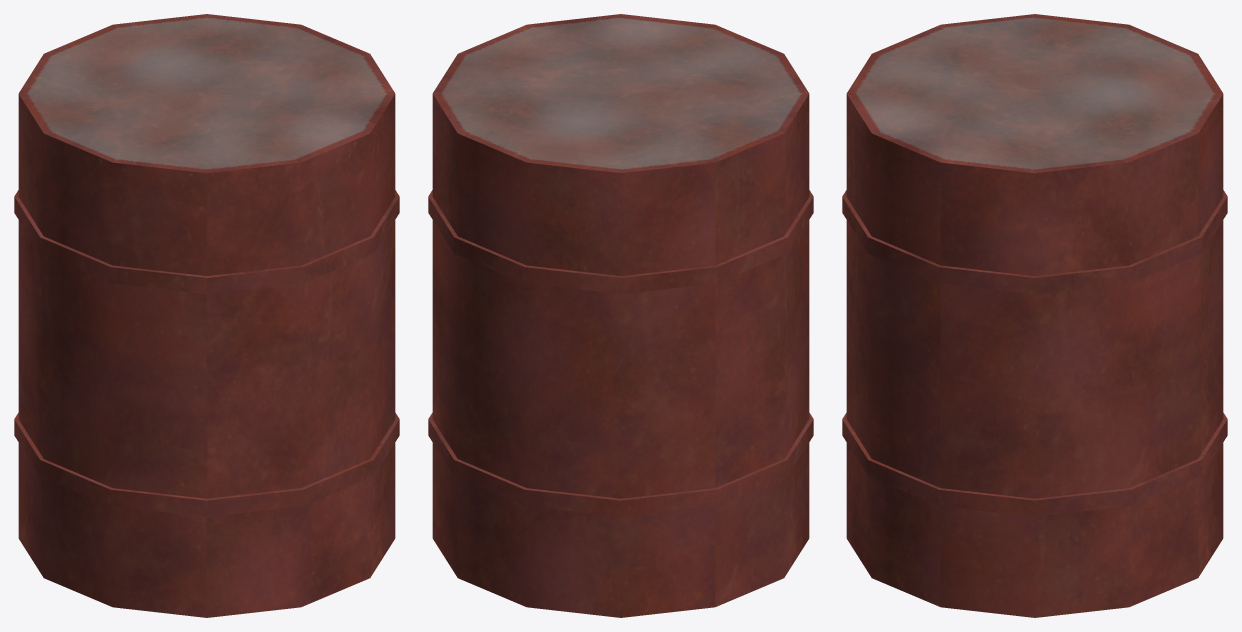
File: contenedor.glb
3 renders of one model, left to right at view 1: azimuth 30°, elevation 25°; view 2: azimuth 150°, elevation 25°; view 3: azimuth 270°, elevation 25°, orthographic.
Parts seen in each view (by area): view 1: Cylinder.004; view 2: Cylinder.004; view 3: Cylinder.004.
Boxes of the visible parts, x1,y1,x2,y2 form: Cylinder.004: [14, 14, 399, 617]; Cylinder.004: [428, 14, 813, 617]; Cylinder.004: [842, 14, 1227, 617].
Size of the model in its own units: 0.9868 by 1.26 by 0.9868.
1 material, 1 textured.
